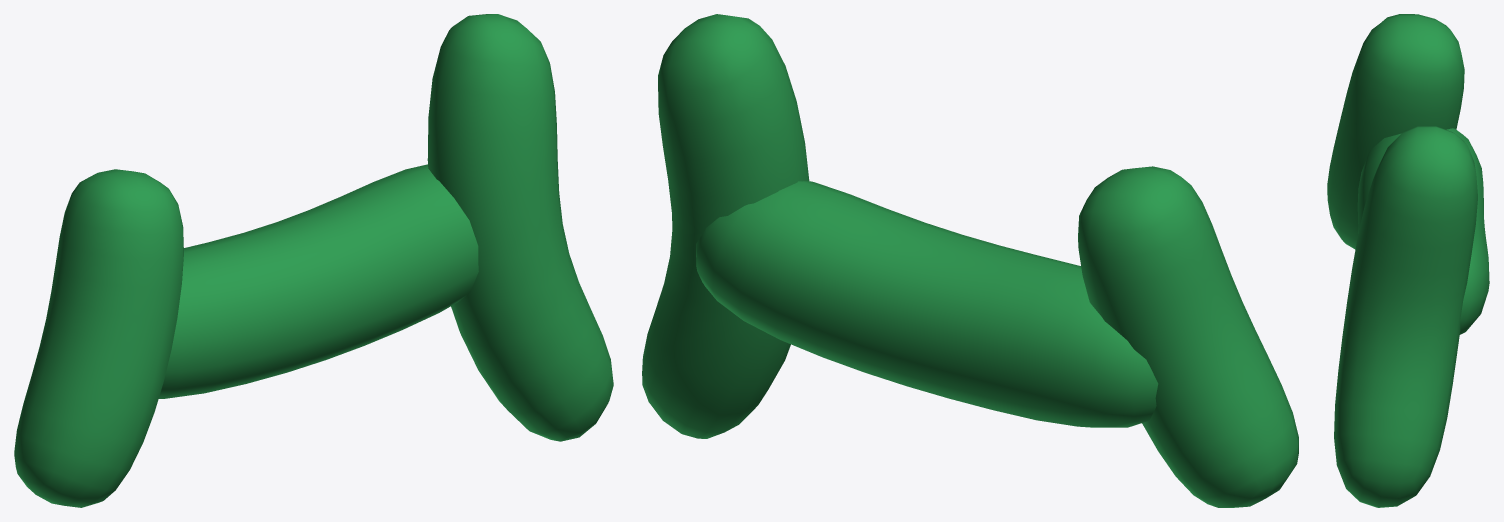
File: Mouth1.glb
3 renders of one model, left to right at view 1: azimuth 30°, elevation 25°; view 2: azimuth 150°, elevation 25°; view 3: azimuth 270°, elevation 25°, orthographic. The views are drawn at different scales.
Visible parts, largest first — view 1: Mouth1; view 2: Mouth1; view 3: Mouth1.
Part boxes in pixels (x1=…): Mouth1: x1=14, y1=14, x2=613, y2=507; Mouth1: x1=642, y1=14, x2=1298, y2=507; Mouth1: x1=1327, y1=14, x2=1489, y2=507.
Bounding box in the file's own units: 0.2515 × 0.168 × 0.0694.
